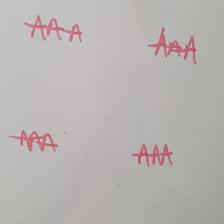polyA: (149, 27, 196, 63), (24, 15, 83, 42), (9, 130, 58, 152), (133, 145, 174, 166)
